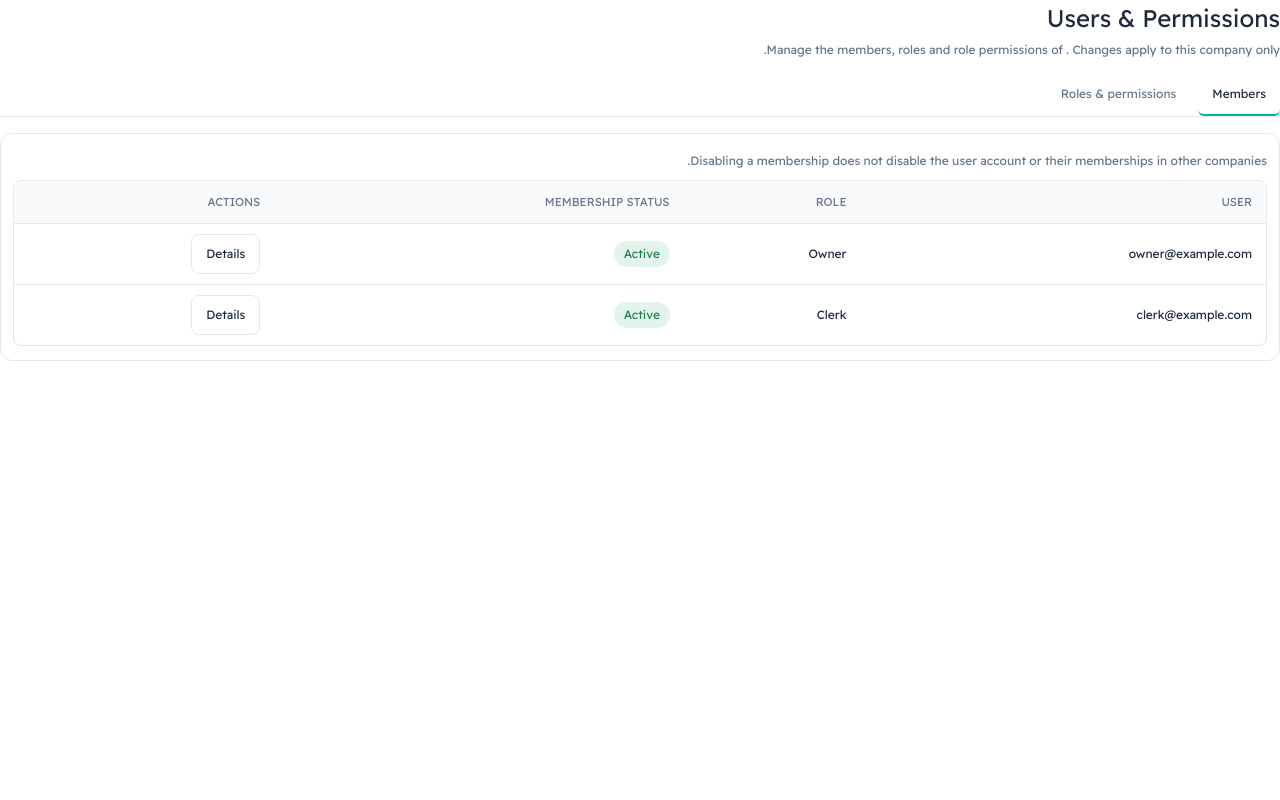
Test case: member details dialog › separates role permissions from effective permissions and marks the Full Access wildcard and System Admin authority
Step 1. Click the button with aria-label "Details owner@example.com" → (226, 254), box [191,234,260,274]
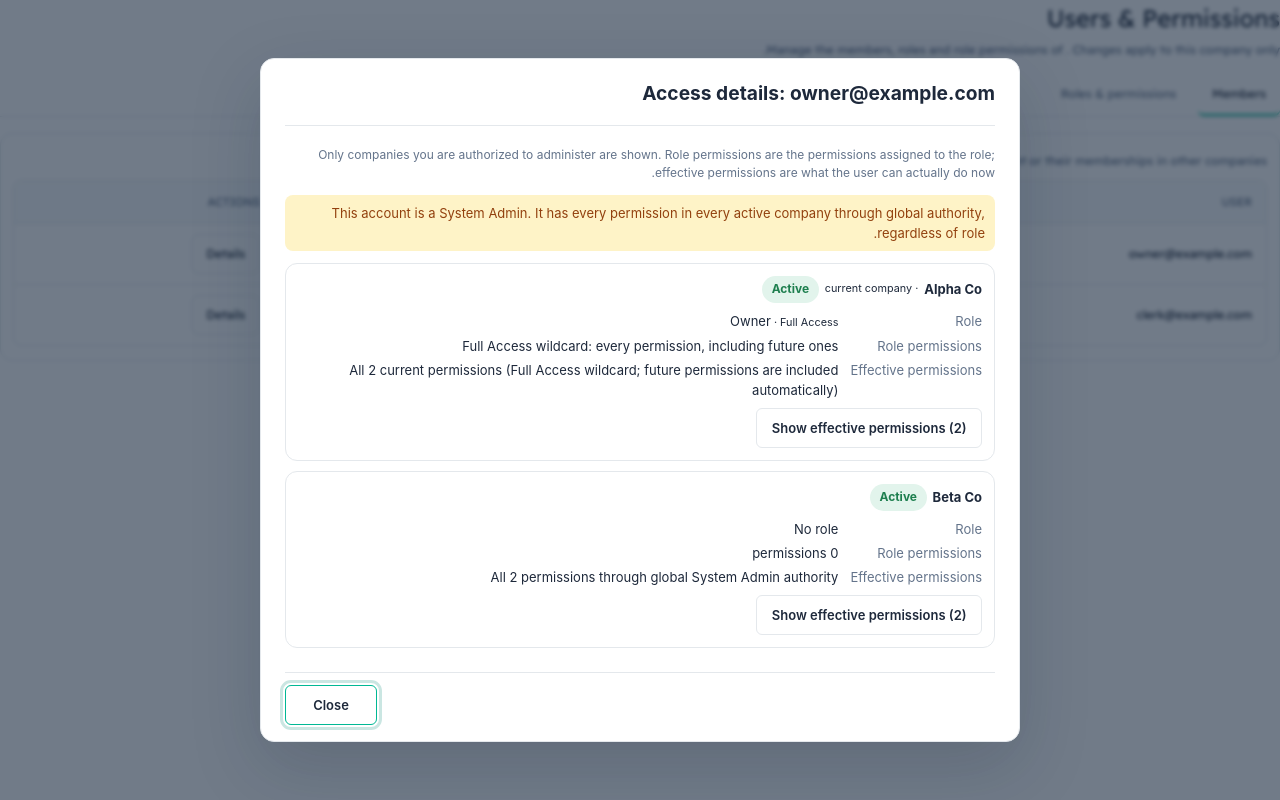
expect the text "Alpha Co" is shown: met, box [924,279,982,300]
expect the text "Full Access wildcard: every permission, including future ones" is shown: met, box [462,338,838,354]
expect the text "future permissions are included automatically" is shown: met, box [349,362,838,398]
Step 2. Click the button "Show effective permissions (2)" below "Alpha Co" → (869, 428), box [756,408,982,448]
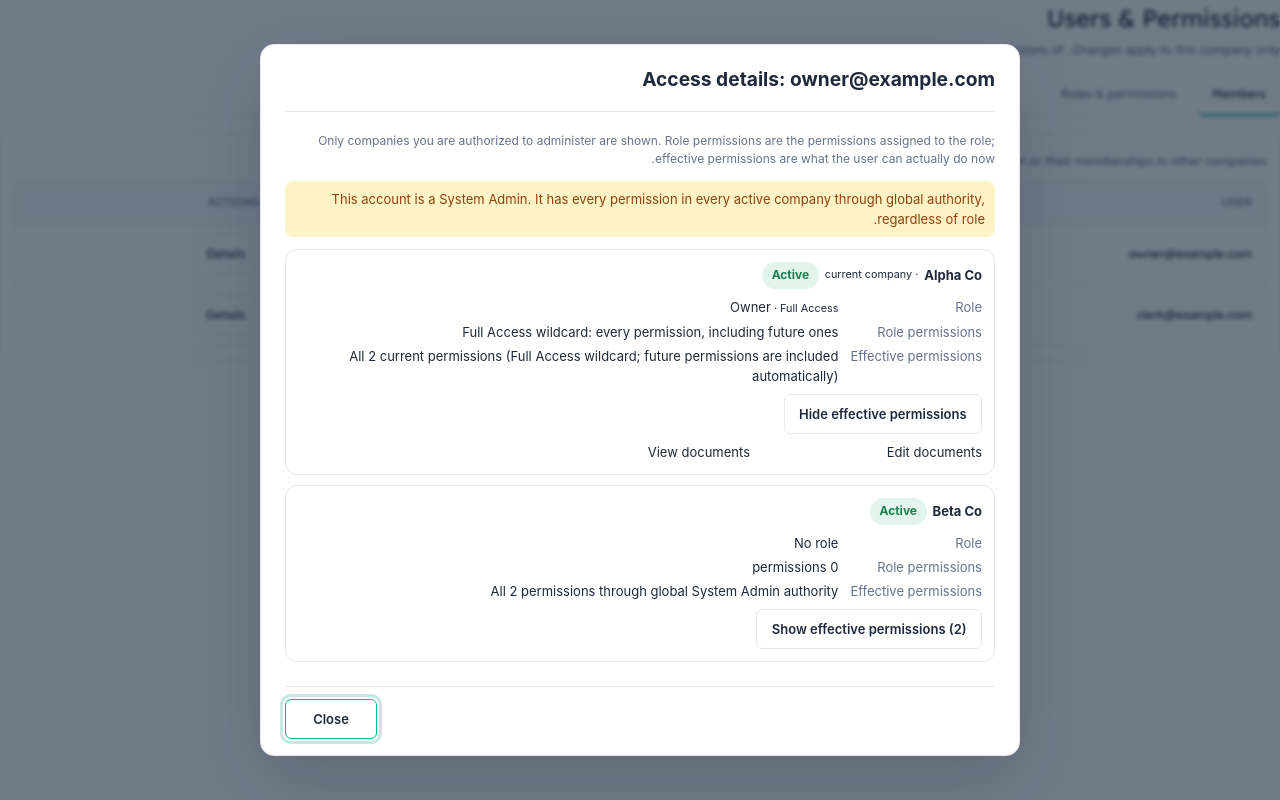
expect the list item titled "document.view" is shown: met, box [648,444,750,460]
